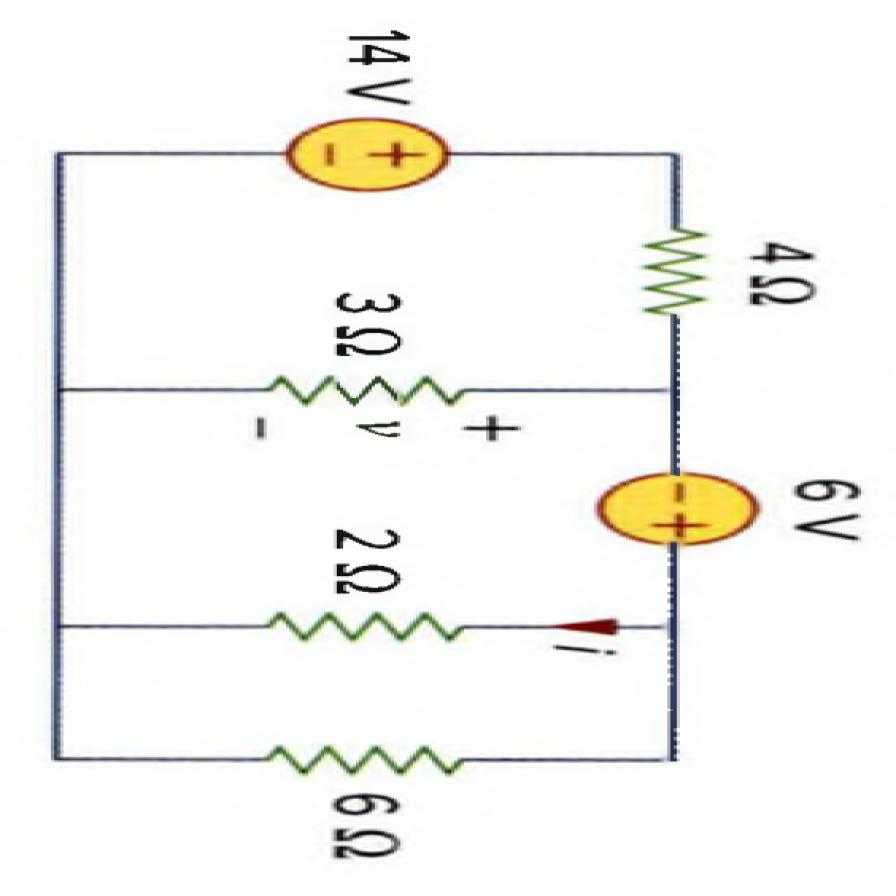V2: (289, 120, 442, 190)
V3: (597, 472, 756, 544)
